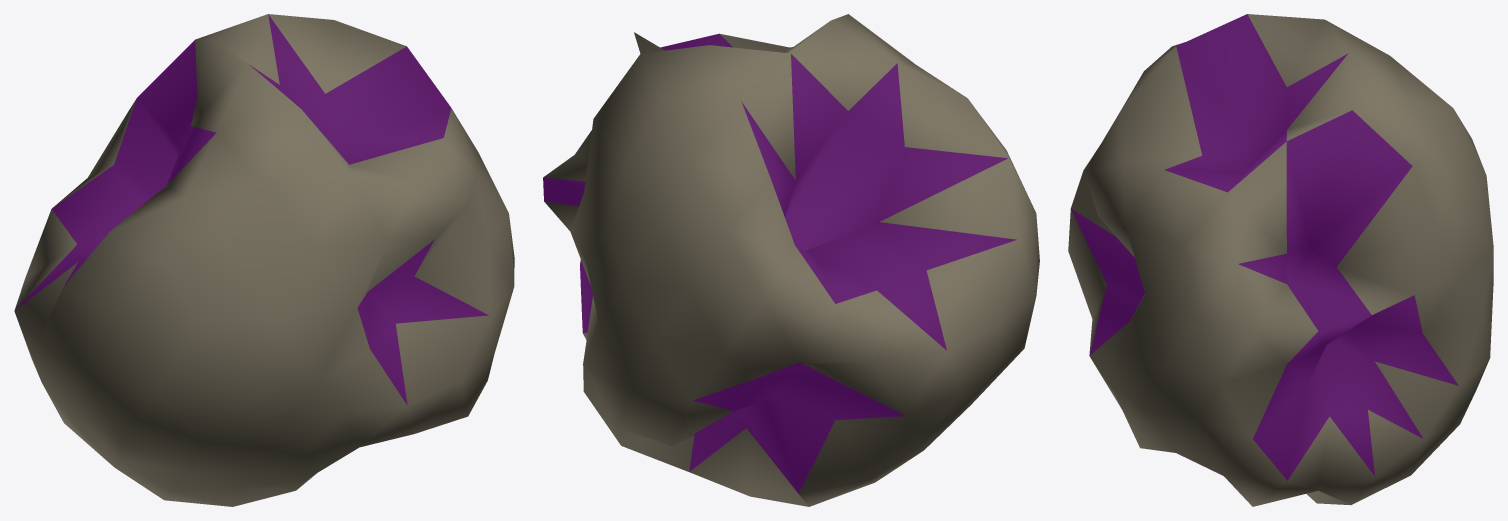
File: asteroid_sml_16.glb
3 renders of one model, left to right at view 1: azimuth 30°, elevation 25°; view 2: azimuth 150°, elevation 25°; view 3: azimuth 270°, elevation 25°, orthographic.
Visible parts, largest first — view 1: asteroid_sml_16; view 2: asteroid_sml_16; view 3: asteroid_sml_16.
Part boxes in pixels (x1,y1,x2,y2): asteroid_sml_16: [14, 14, 514, 506]; asteroid_sml_16: [543, 14, 1039, 506]; asteroid_sml_16: [1068, 14, 1493, 506].
Size of the model in its own units: 1.47 by 1.44 by 1.22.
